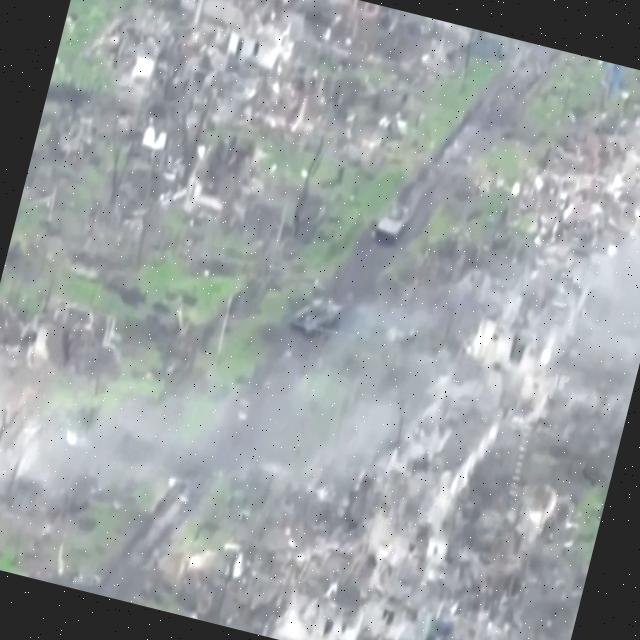AIFV: (372, 198, 415, 250)
MBT: (285, 284, 348, 352)
